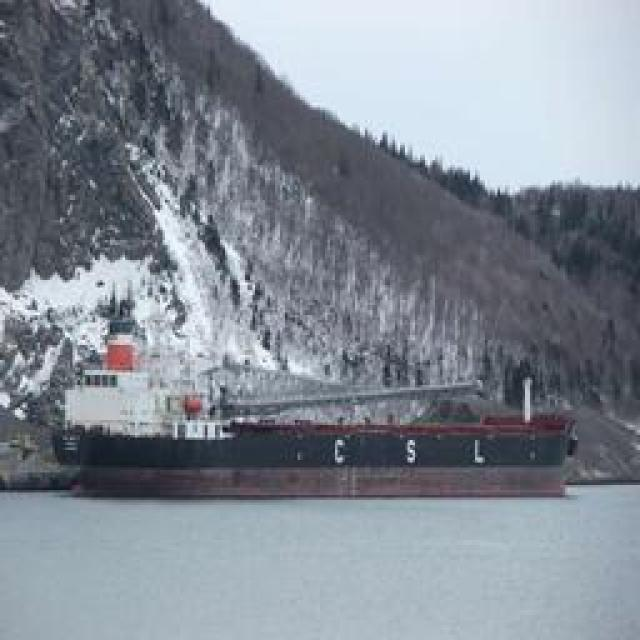Ship: (75, 402, 588, 503)
